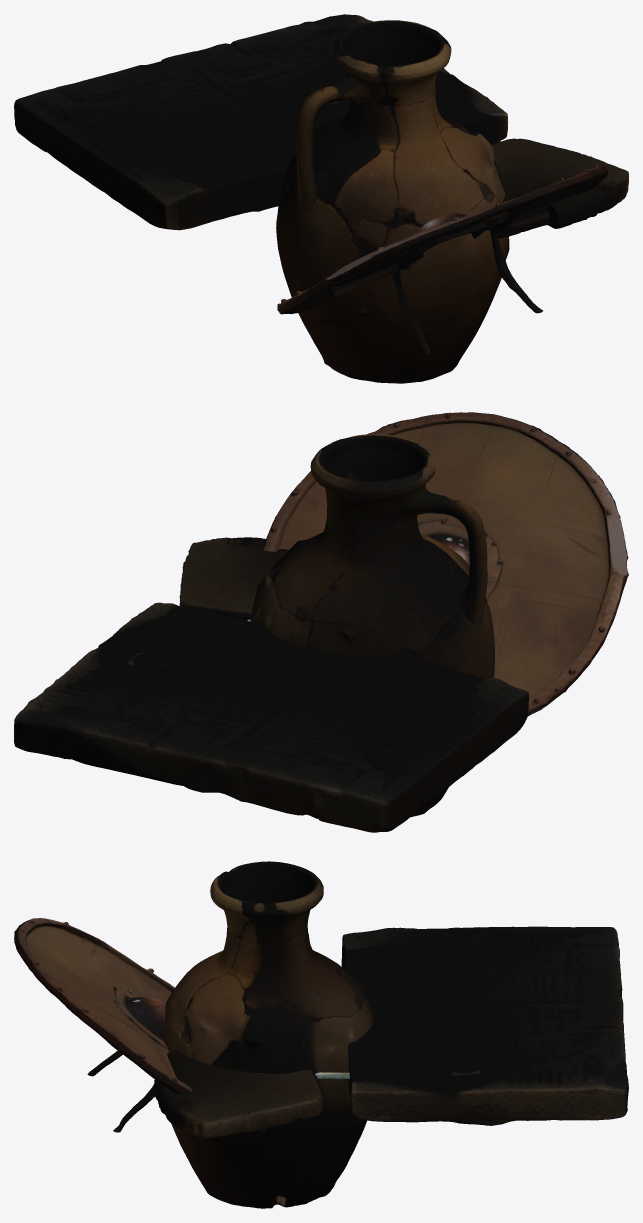
The model's file is scenegen.glb.
3 renders of one model, top to bottom at view 1: azimuth 30°, elevation 25°; view 2: azimuth 150°, elevation 25°; view 3: azimuth 270°, elevation 25°, orthographic. The views are drawn at different scales.
Parts seen in each view (by area): view 1: geometry_3, geometry_1, geometry_4, geometry_2; view 2: geometry_1, geometry_4, geometry_3, geometry_2; view 3: geometry_1, geometry_3, geometry_4, geometry_2.
Part boxes in pixels (x1=…): geometry_3: x1=276, y1=20, x2=509, y2=383; geometry_1: x1=14, y1=14, x2=508, y2=230; geometry_4: x1=277, y1=164, x2=608, y2=354; geometry_2: x1=491, y1=138, x2=628, y2=238; geometry_1: x1=14, y1=602, x2=528, y2=832; geometry_4: x1=262, y1=412, x2=628, y2=716; geometry_3: x1=250, y1=434, x2=494, y2=817; geometry_2: x1=179, y1=537, x2=289, y2=619; geometry_1: x1=341, y1=926, x2=628, y2=1125; geometry_3: x1=163, y1=861, x2=374, y2=1208; geometry_4: x1=14, y1=918, x2=265, y2=1133; geometry_2: x1=154, y1=1049, x2=324, y2=1138.
Bounding box in the file's own units: 1.41 × 1.05 × 1.96.
5 materials, 5 textured.
